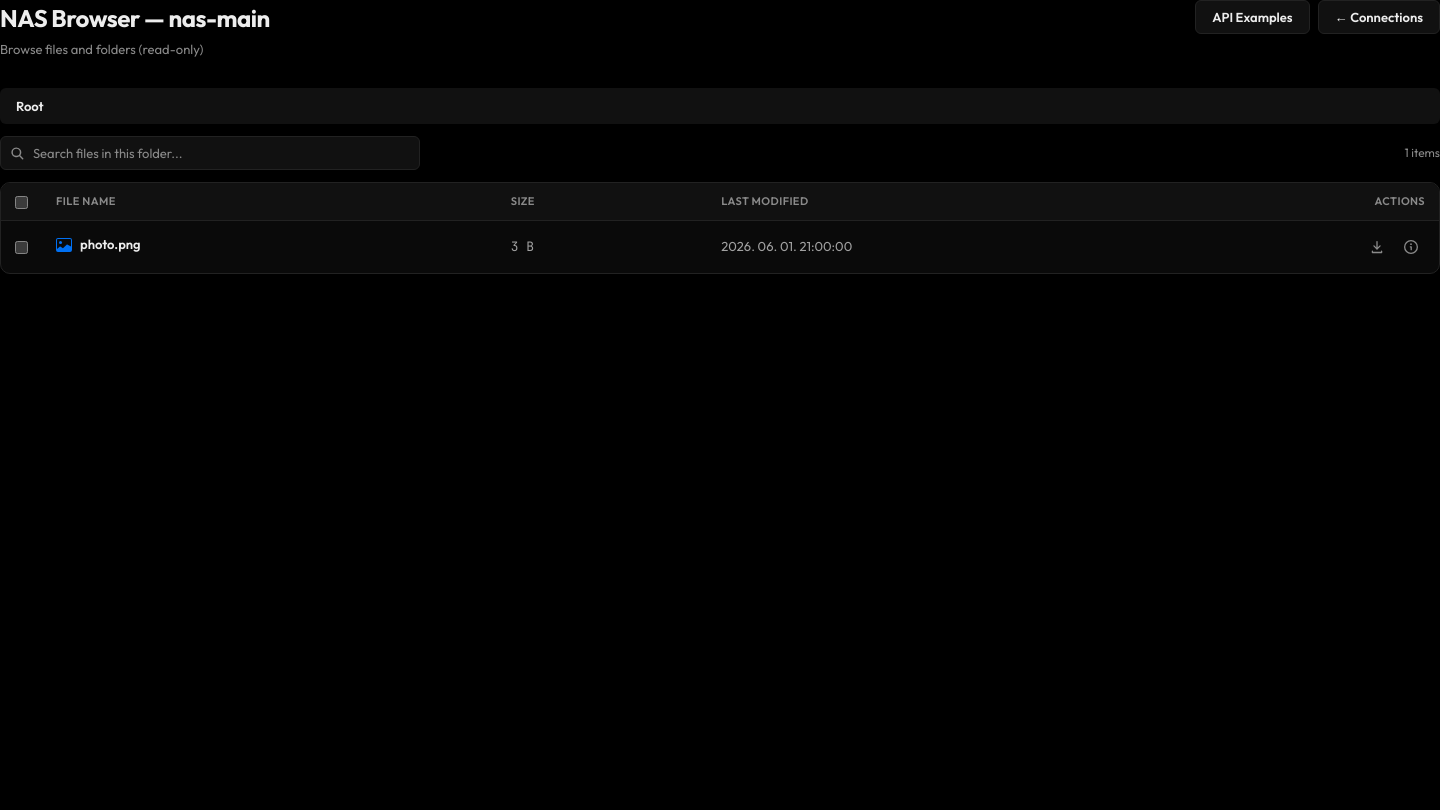
Test: NasBrowser page › opens an inline image preview when an image name is clicked
Click the button "photo.png" at point(98, 245), box [56,235,141,254]
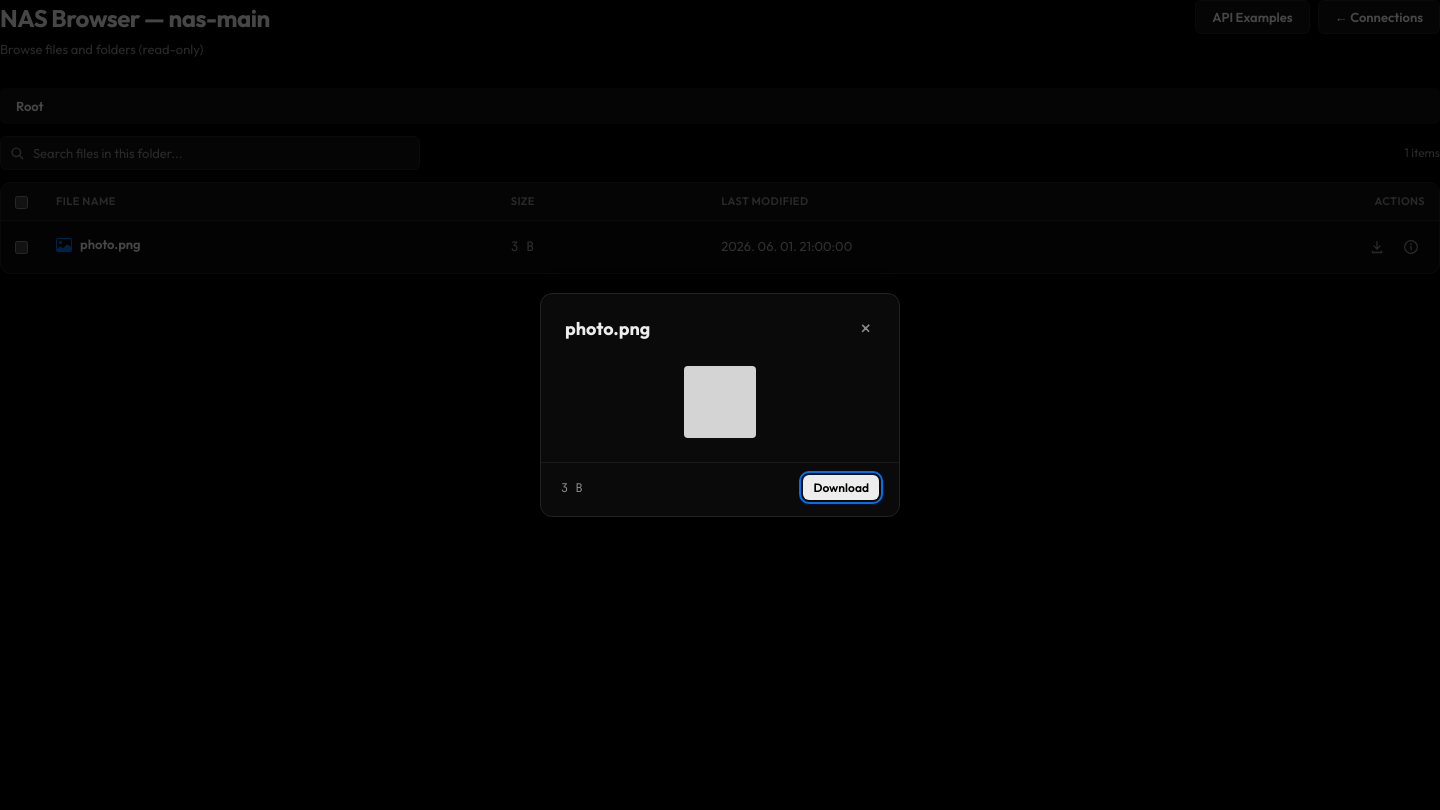
expect the dialog is shown: met, box [540,293,900,517]
